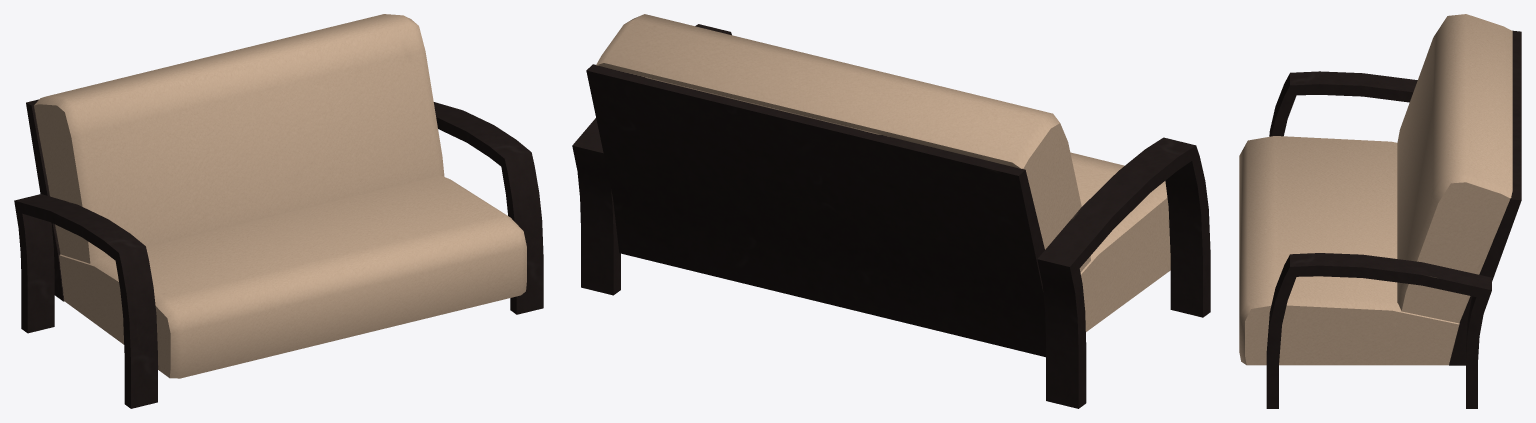
The model's file is sofa.FBX.
3 renders of one model, left to right at view 1: azimuth 30°, elevation 25°; view 2: azimuth 150°, elevation 25°; view 3: azimuth 270°, elevation 25°, orthographic. The views are drawn at different scales.
Visible parts, largest first — view 1: sofa; view 2: sofa; view 3: sofa.
Boxes of the visible parts, x1=… form: sofa: x1=14, y1=14, x2=543, y2=408; sofa: x1=572, y1=14, x2=1210, y2=408; sofa: x1=1239, y1=14, x2=1521, y2=408.
Size of the model in its own units: 221 by 116 by 136.
Materials: 1 (1 with a texture image).
